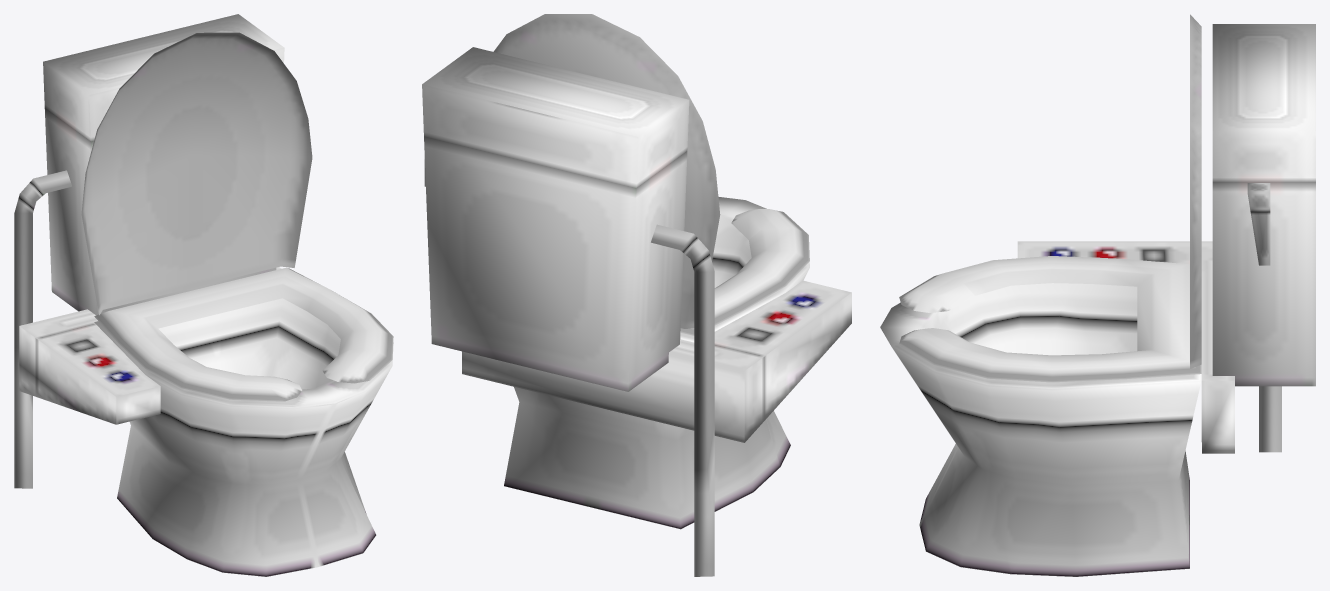
File: rmk_oth_wc1_mtl.dae
3 renders of one model, left to right at view 1: azimuth 30°, elevation 25°; view 2: azimuth 150°, elevation 25°; view 3: azimuth 270°, elevation 25°, orthographic. The views are drawn at different scales.
Parts seen in each view (by area): view 1: rmk_oth_wc1_mtl; view 2: rmk_oth_wc1_mtl; view 3: rmk_oth_wc1_mtl.
Part boxes in pixels (x1=…): rmk_oth_wc1_mtl: x1=14, y1=14, x2=393, y2=576; rmk_oth_wc1_mtl: x1=422, y1=14, x2=851, y2=576; rmk_oth_wc1_mtl: x1=880, y1=14, x2=1315, y2=576.
Size of the model in its own units: 24.6 by 38.37 by 30.35.
Materials: 2 (2 with a texture image).
